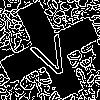V: (25, 25, 76, 81)
